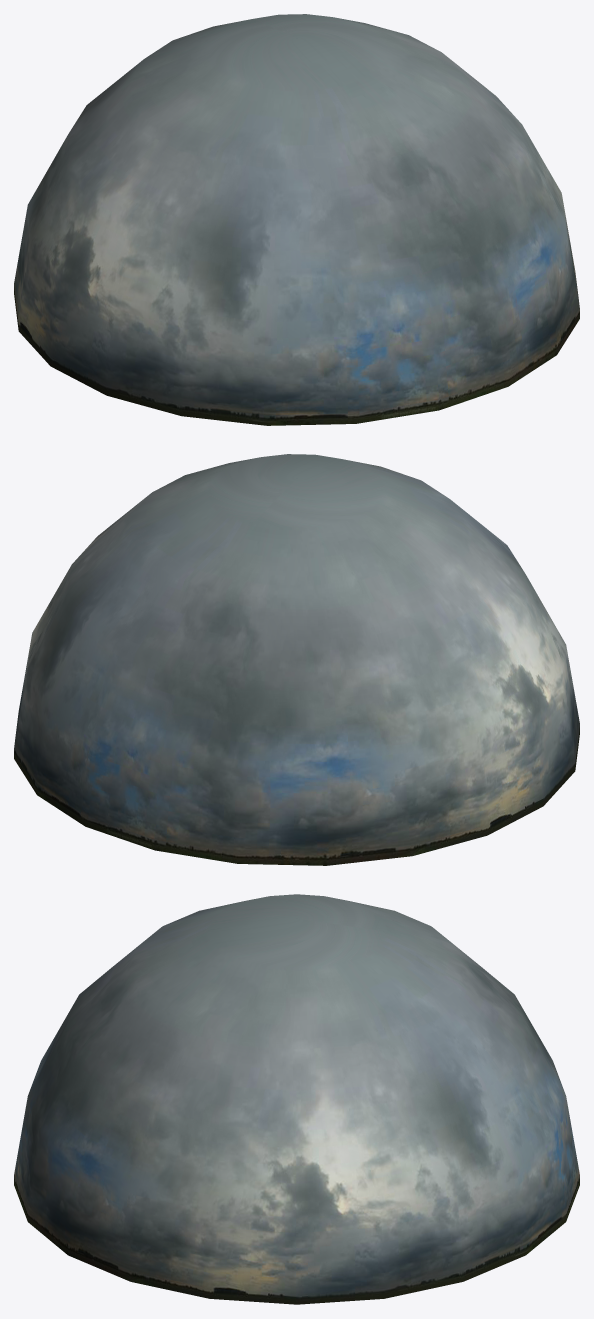
Rendered from SKY1.FBX.
The picture shows the model from 3 angles, top to bottom: view 1: azimuth 30°, elevation 25°; view 2: azimuth 150°, elevation 25°; view 3: azimuth 270°, elevation 25°; orthographic projection.
Parts seen in each view (by area): view 1: sky1; view 2: sky1; view 3: sky1.
Boxes of the visible parts, <box> form: sky1: <box>14,14,579,425</box>; sky1: <box>14,454,579,865</box>; sky1: <box>14,894,579,1304</box>.
Size of the model in its own units: 338123 by 175611 by 338123.
2 materials, 2 textured.
